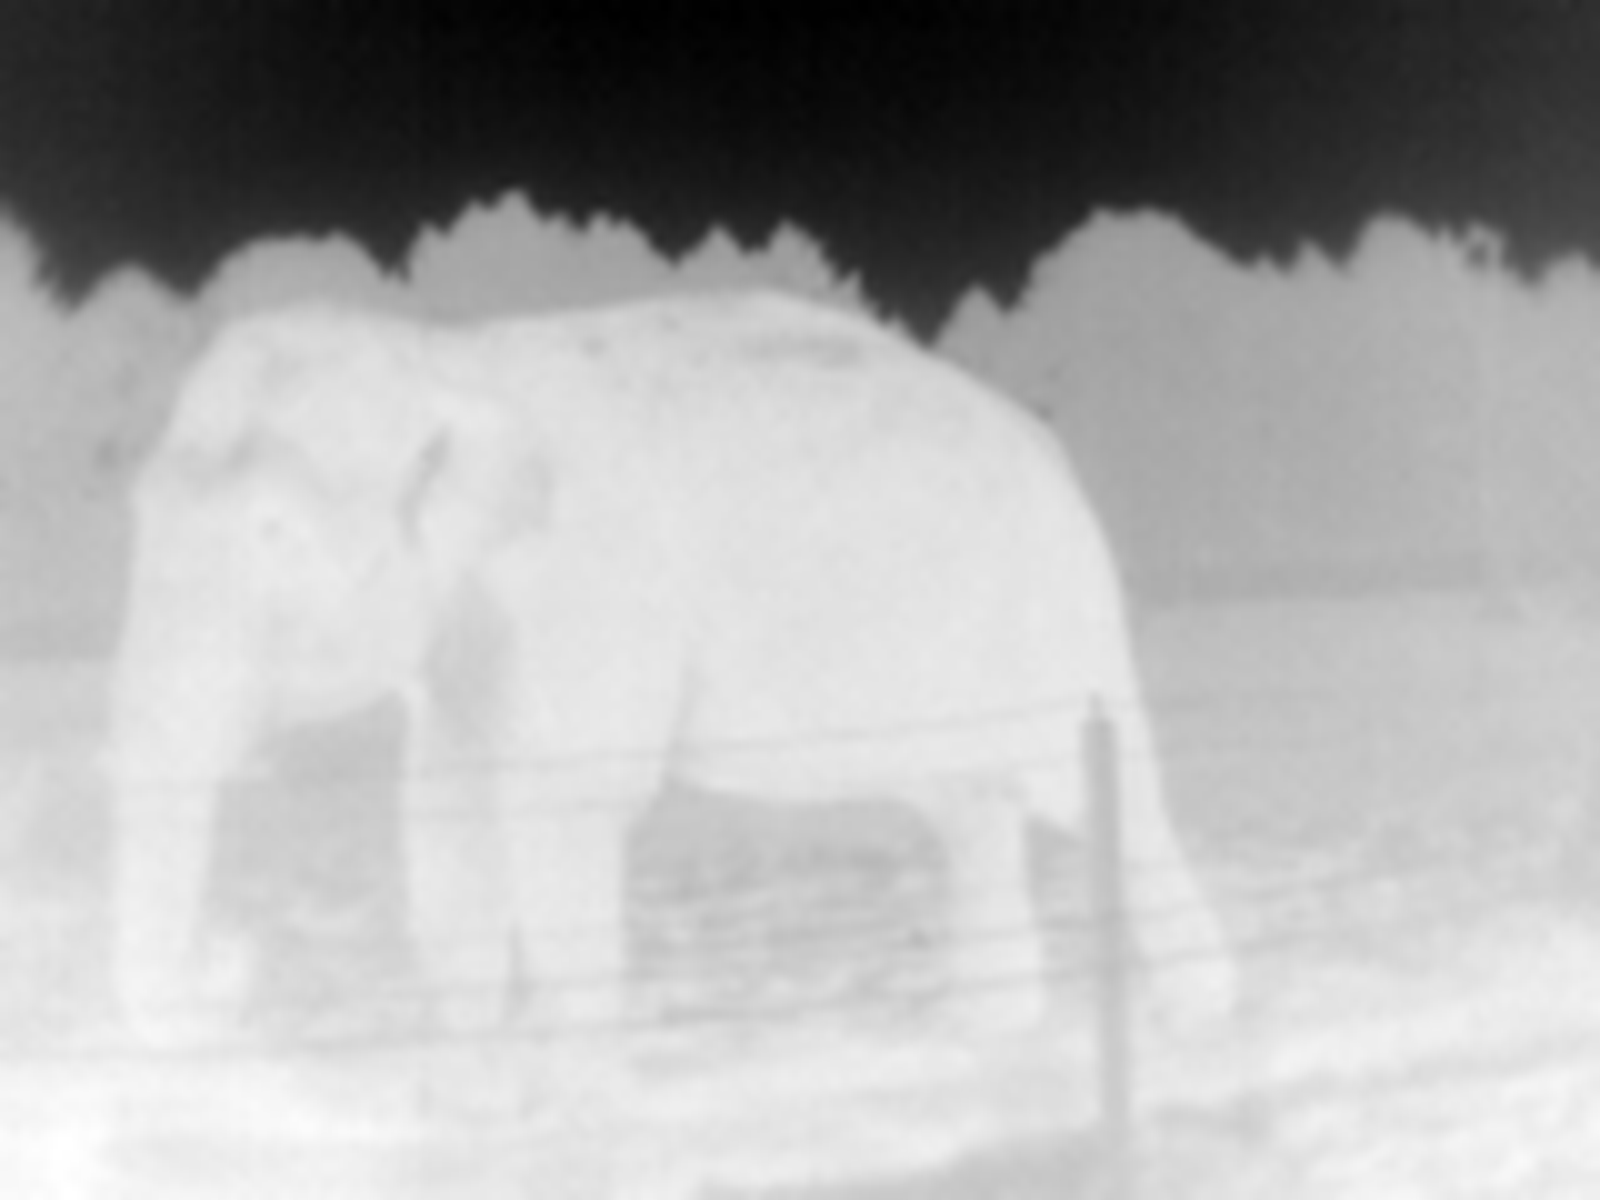elephant: (94, 292, 1246, 1107)
